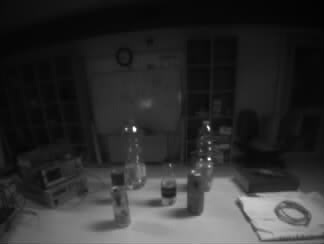Bottle: (125, 123, 148, 187), (196, 120, 212, 176), (161, 161, 176, 203)
Tin can: (187, 171, 204, 217), (112, 188, 129, 225), (112, 170, 124, 187)
